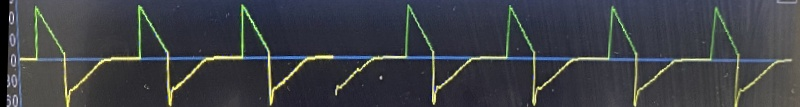normal_flow: (21, 0, 795, 107)
